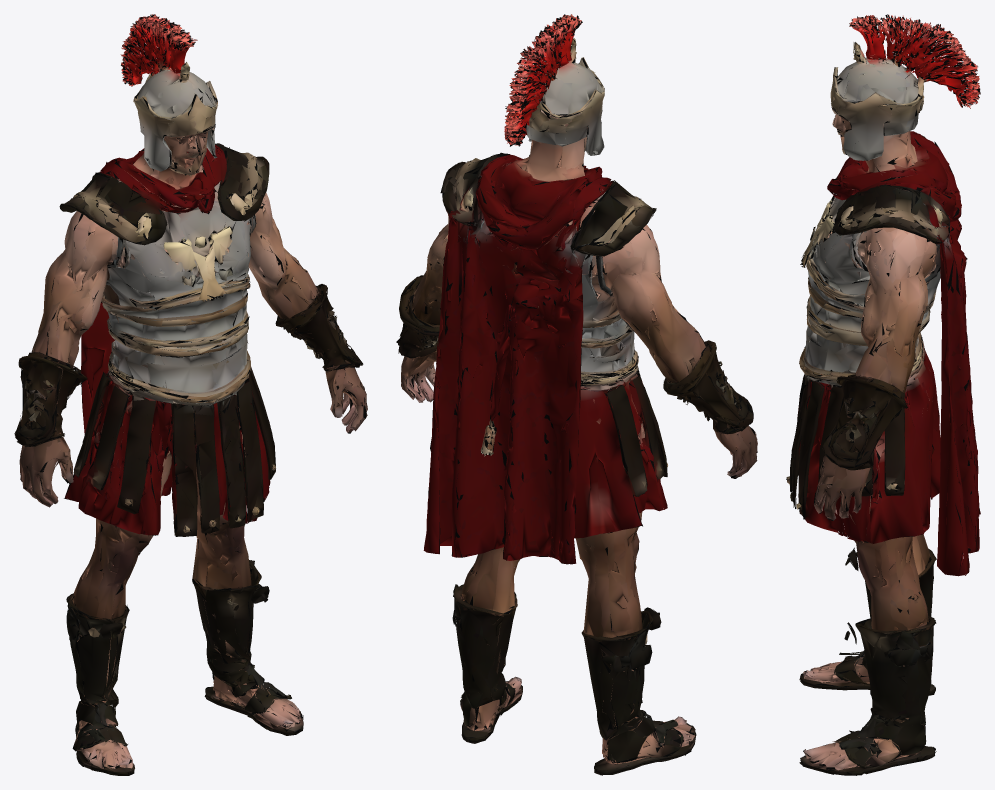
The model's file is legionary-dbake.glb.
The picture shows the model from 3 angles, left to right: view 1: azimuth 30°, elevation 25°; view 2: azimuth 150°, elevation 25°; view 3: azimuth 270°, elevation 25°; orthographic projection. The views are drawn at different scales.
Visible parts, largest first — view 1: Legionary; view 2: Legionary; view 3: Legionary.
Boxes of the visible parts, x1,y1,x2,y2 form: Legionary: (14,14,367,775); Legionary: (396,14,757,775); Legionary: (786,14,980,775).
Bounding box in the file's own units: 0.5105 × 1 × 0.2494.
1 material, 1 textured.
